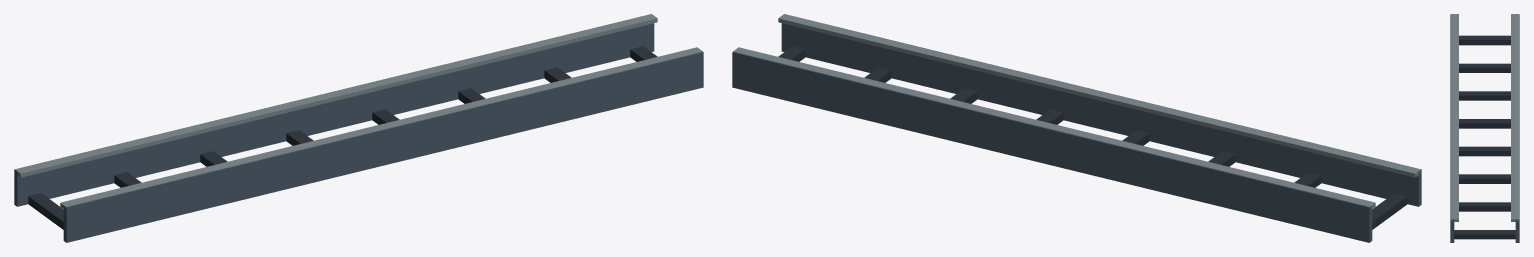
Rendered from K-05_cable_tray.glb.
3 views of the same model, side by side, from view 1: azimuth 30°, elevation 25°; view 2: azimuth 150°, elevation 25°; view 3: azimuth 270°, elevation 25° (orthographic). The views are drawn at different scales.
Visible parts, largest first — view 1: K-05_cable_tray; view 2: K-05_cable_tray; view 3: K-05_cable_tray.
Part boxes in pixels (left/top/right/bottom): K-05_cable_tray: left=14, top=14, right=703, bottom=242; K-05_cable_tray: left=732, top=14, right=1421, bottom=242; K-05_cable_tray: left=1450, top=14, right=1519, bottom=242.
Bounding box in the file's own units: 2 × 0.107 × 0.284.
